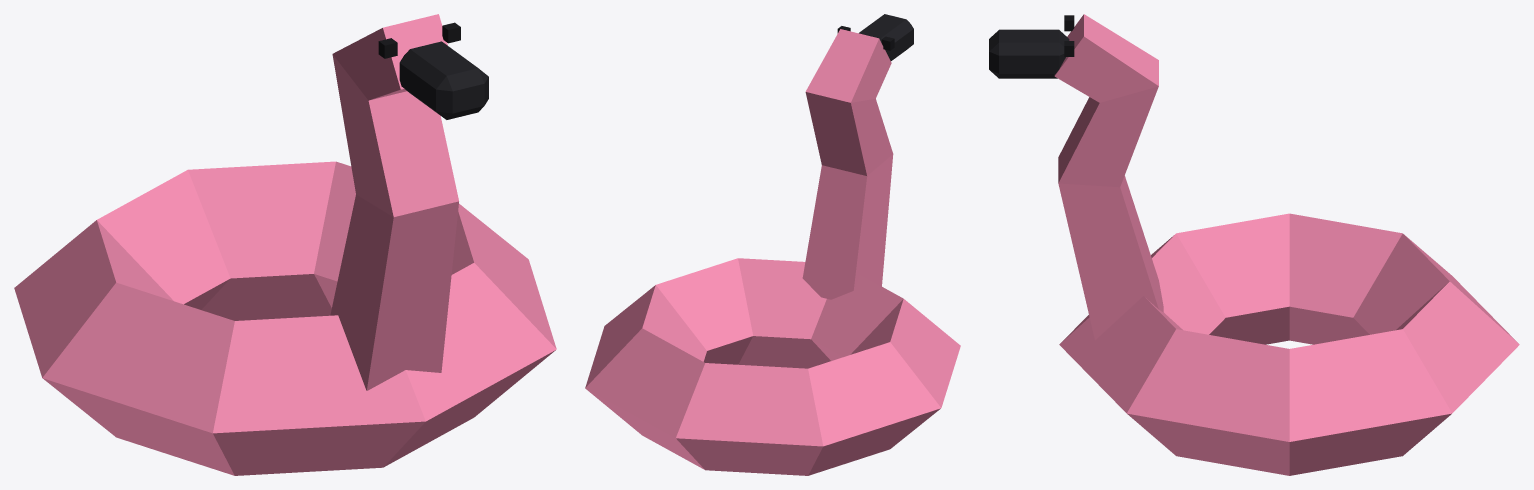
File: FlamingoFloat.fbx
The picture shows the model from 3 angles, left to right: view 1: azimuth 30°, elevation 25°; view 2: azimuth 150°, elevation 25°; view 3: azimuth 270°, elevation 25°; orthographic projection. The views are drawn at different scales.
Visible parts, largest first — view 1: FlamingoFloat; view 2: FlamingoFloat; view 3: FlamingoFloat.
Boxes of the visible parts, bbox=[...] form: FlamingoFloat: bbox=[14, 14, 556, 475]; FlamingoFloat: bbox=[585, 14, 960, 475]; FlamingoFloat: bbox=[989, 14, 1519, 475].
Size of the model in its own units: 4.6 by 4.22 by 5.3.
1 material, 1 textured.
